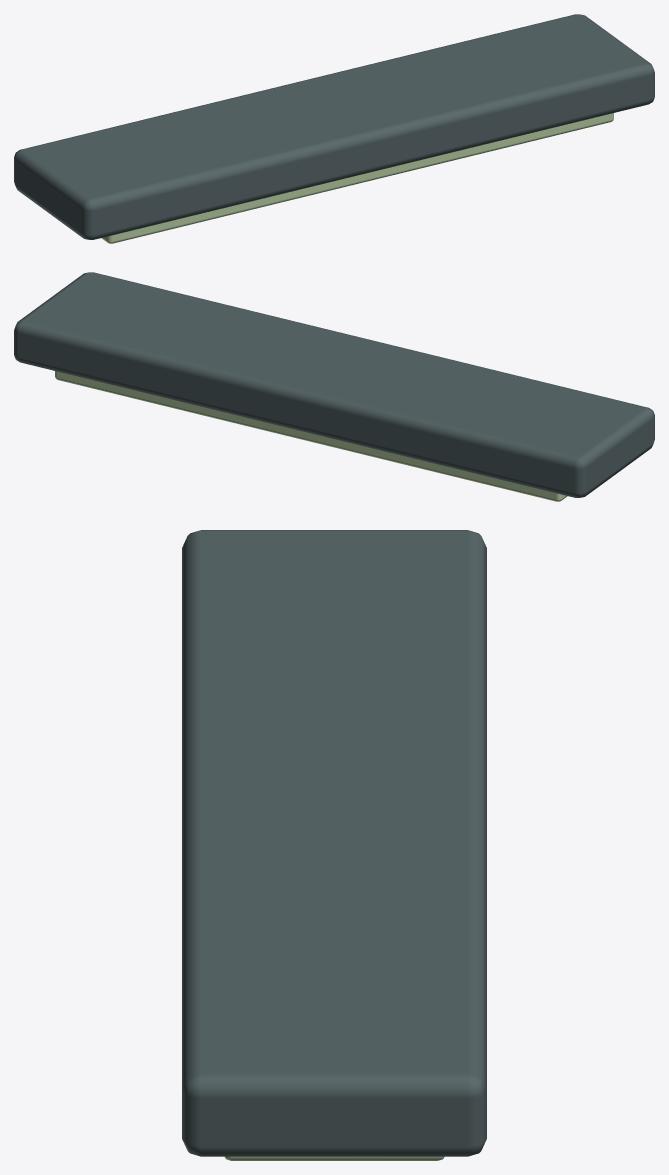
File: Lamp.obj
The picture shows the model from 3 angles, top to bottom: view 1: azimuth 30°, elevation 25°; view 2: azimuth 150°, elevation 25°; view 3: azimuth 270°, elevation 25°; orthographic projection. The views are drawn at different scales.
Visible parts, largest first — view 1: Lamp; view 2: Lamp; view 3: Lamp.
Part boxes in pixels (<box>): Lamp: <box>14,14,654,243</box>; Lamp: <box>14,272,654,501</box>; Lamp: <box>182,530,486,1160</box>.
Bounding box in the file's own units: 1.3 × 0.125 × 0.3.
